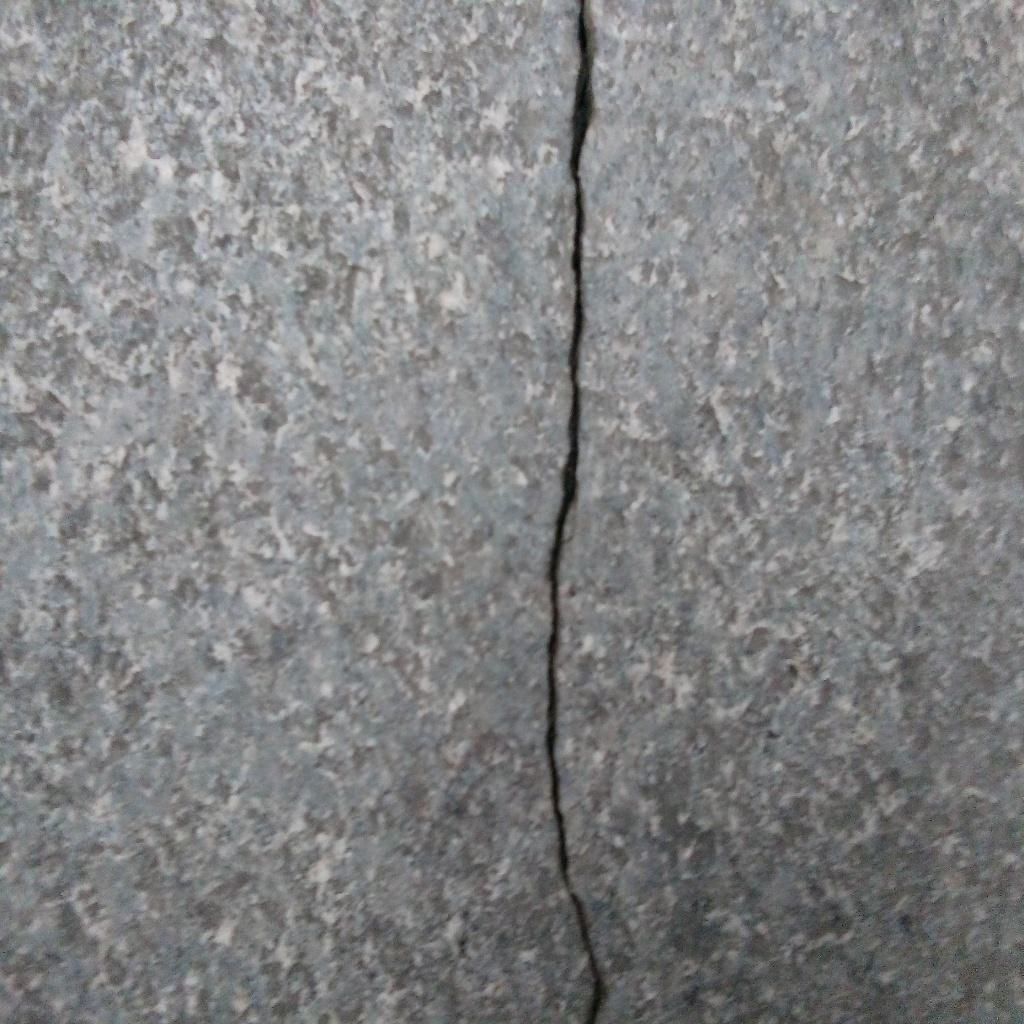Crack: (543, 1, 609, 1024)
